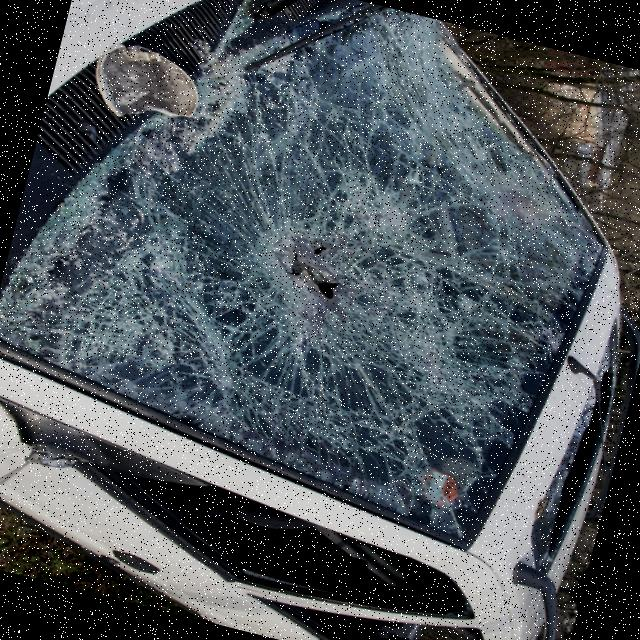Windshield: (21, 0, 592, 528)
